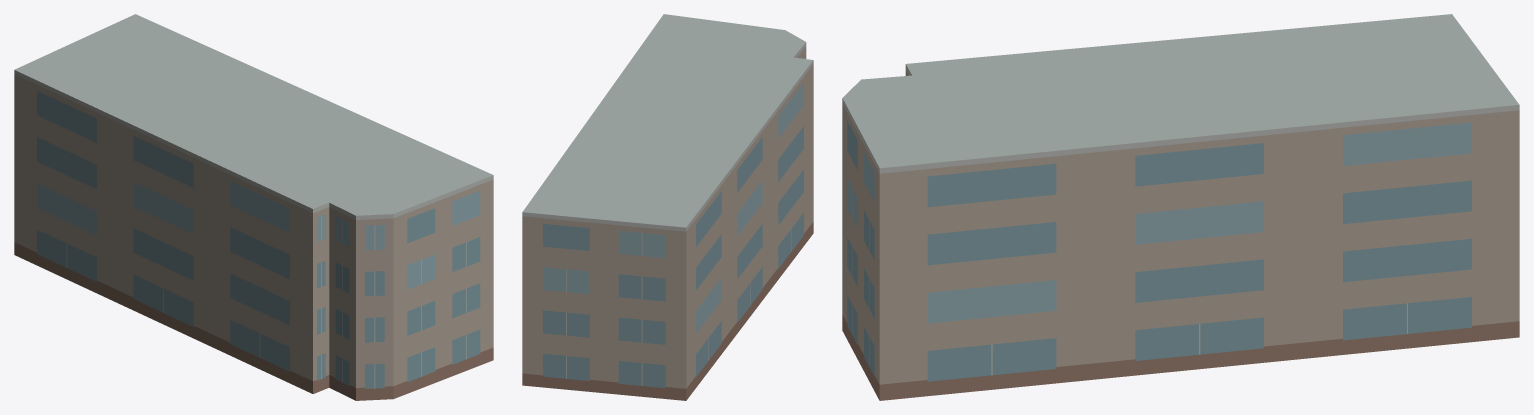
File: survey-upis-32765496.glb
3 renders of one model, left to right at view 1: azimuth 30°, elevation 25°; view 2: azimuth 150°, elevation 25°; view 3: azimuth 270°, elevation 25°, orthographic. The views are drawn at different scales.
Visible parts, largest first — view 1: survey-upis-32765496.tmp; view 2: survey-upis-32765496.tmp; view 3: survey-upis-32765496.tmp.
Part boxes in pixels (x1,y1,x2,y2): survey-upis-32765496.tmp: [14, 14, 493, 400]; survey-upis-32765496.tmp: [522, 14, 813, 400]; survey-upis-32765496.tmp: [842, 14, 1519, 400].
Bounding box in the file's own units: 15.1 × 10.6 × 27.99.
